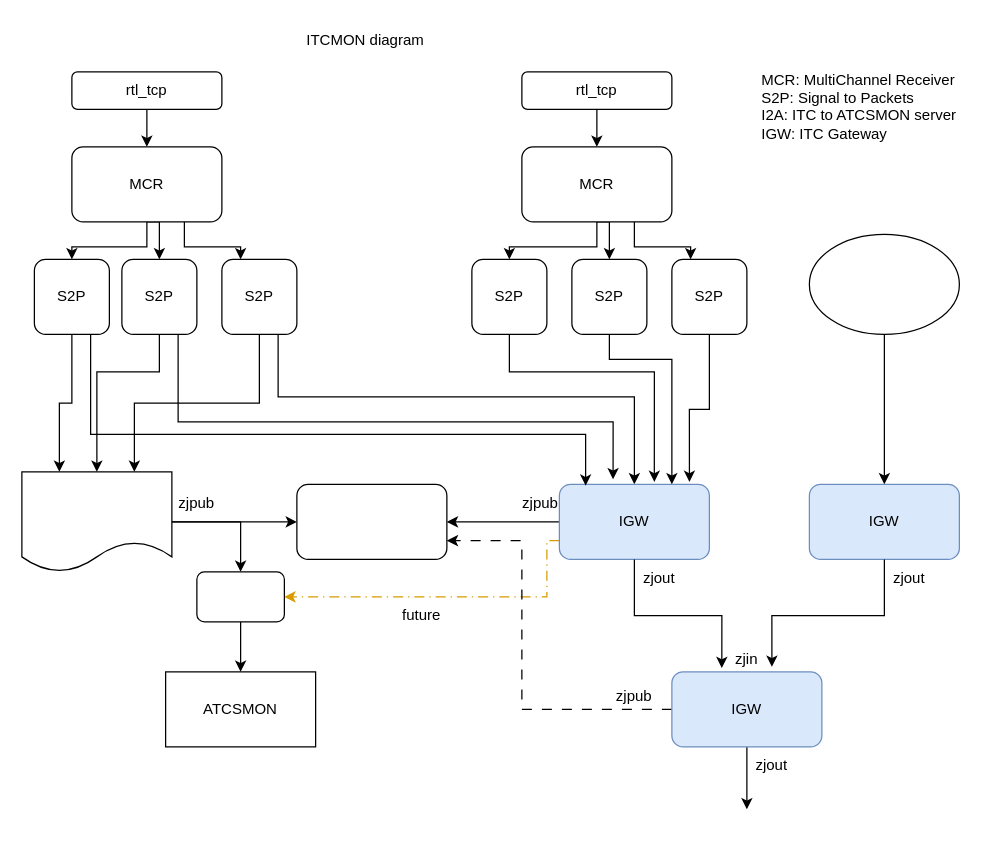
Some shapes in this 981 by 841 pixel diagram are drawn without their labels. The centre of each missing label's shape, as x and y in pixels:
I2A: the point at 240,596
ITCMON: the point at 96,521
more MCR/S2P receivers: the point at 883,283
Other Apps: the point at 371,521
